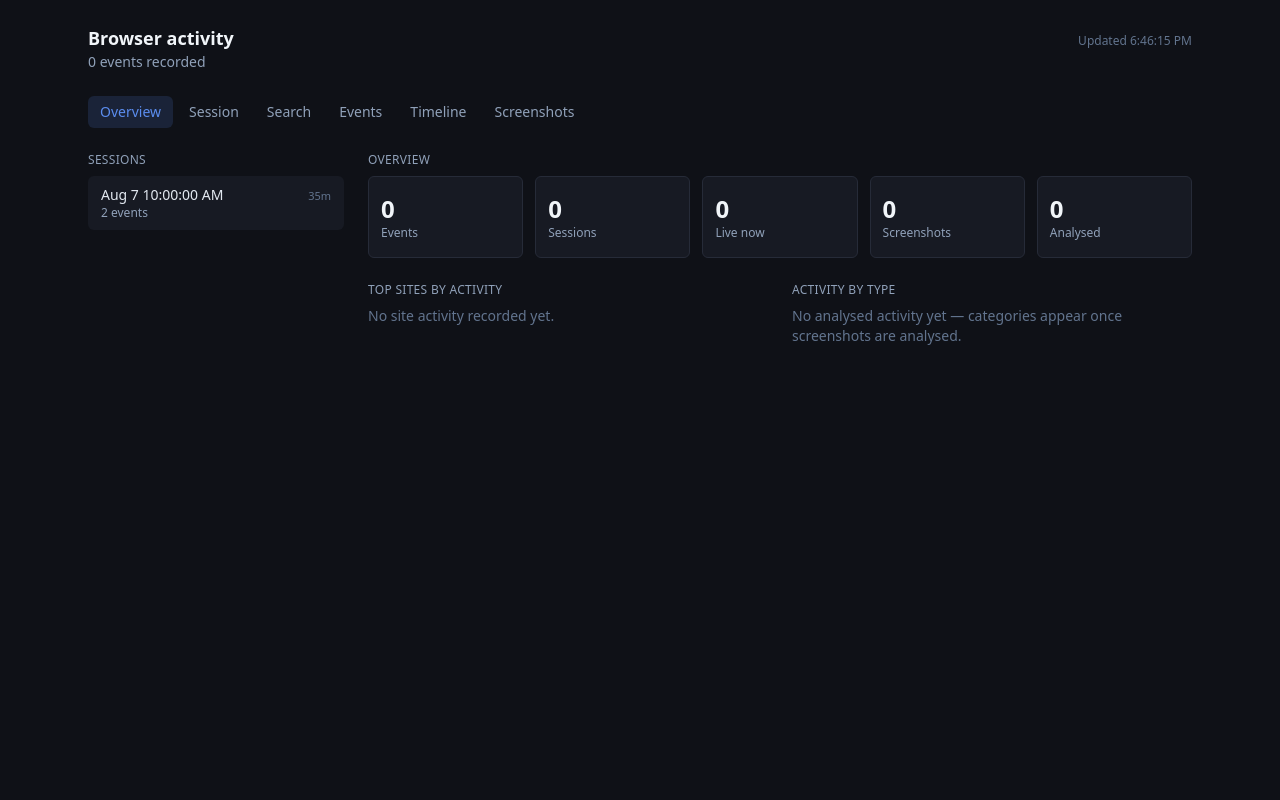
Test case: screenshots view › shows a pending capture waiting for the pipeline
Expected: the text "0 events recorded" is shown, [88, 52, 206, 71]
Click the button "Screenshots": (534, 112) [482, 96, 586, 128]
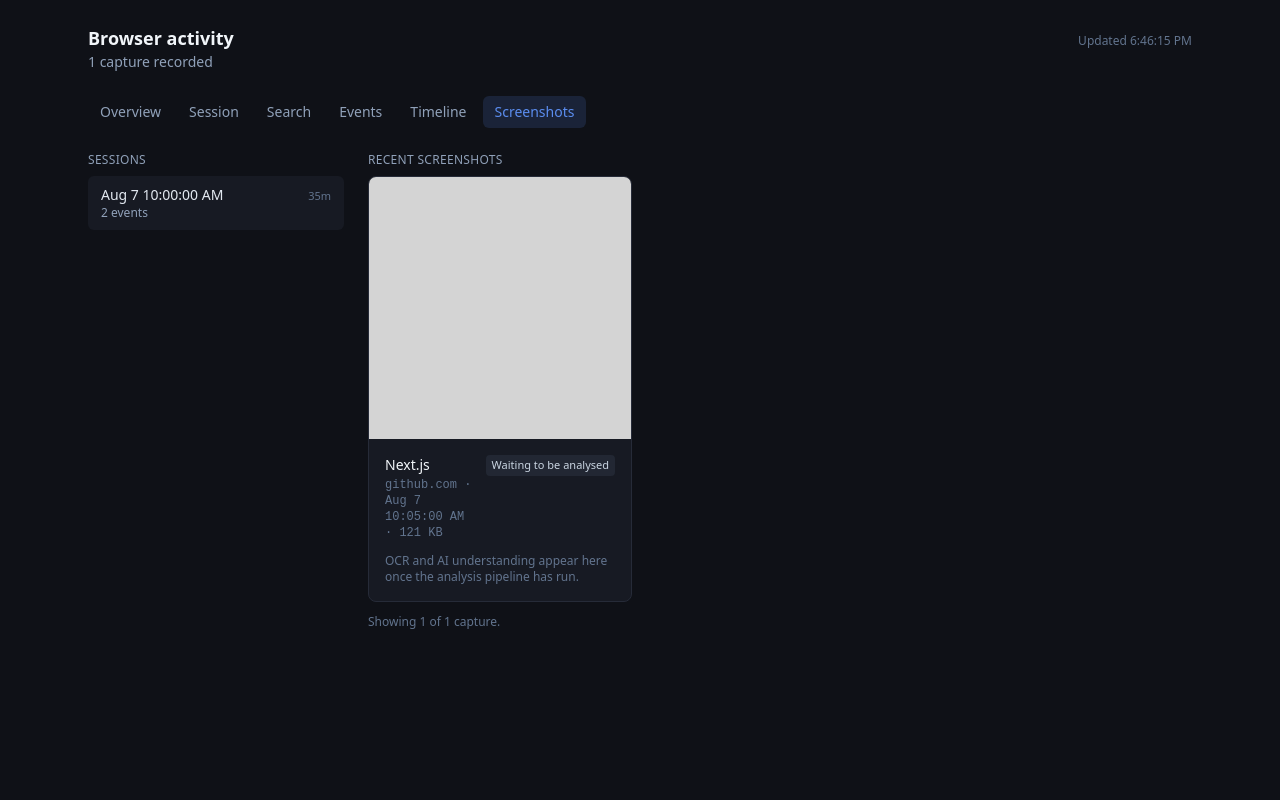
Expected: the text "Waiting to be analysed" is shown, [486, 455, 615, 476]
Expected: the text "OCR and AI understanding appear here" is shown, [385, 552, 607, 585]
